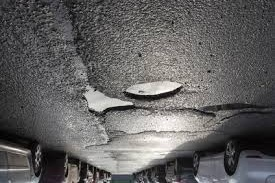pothole: (77, 83, 133, 117), (121, 79, 180, 98)
